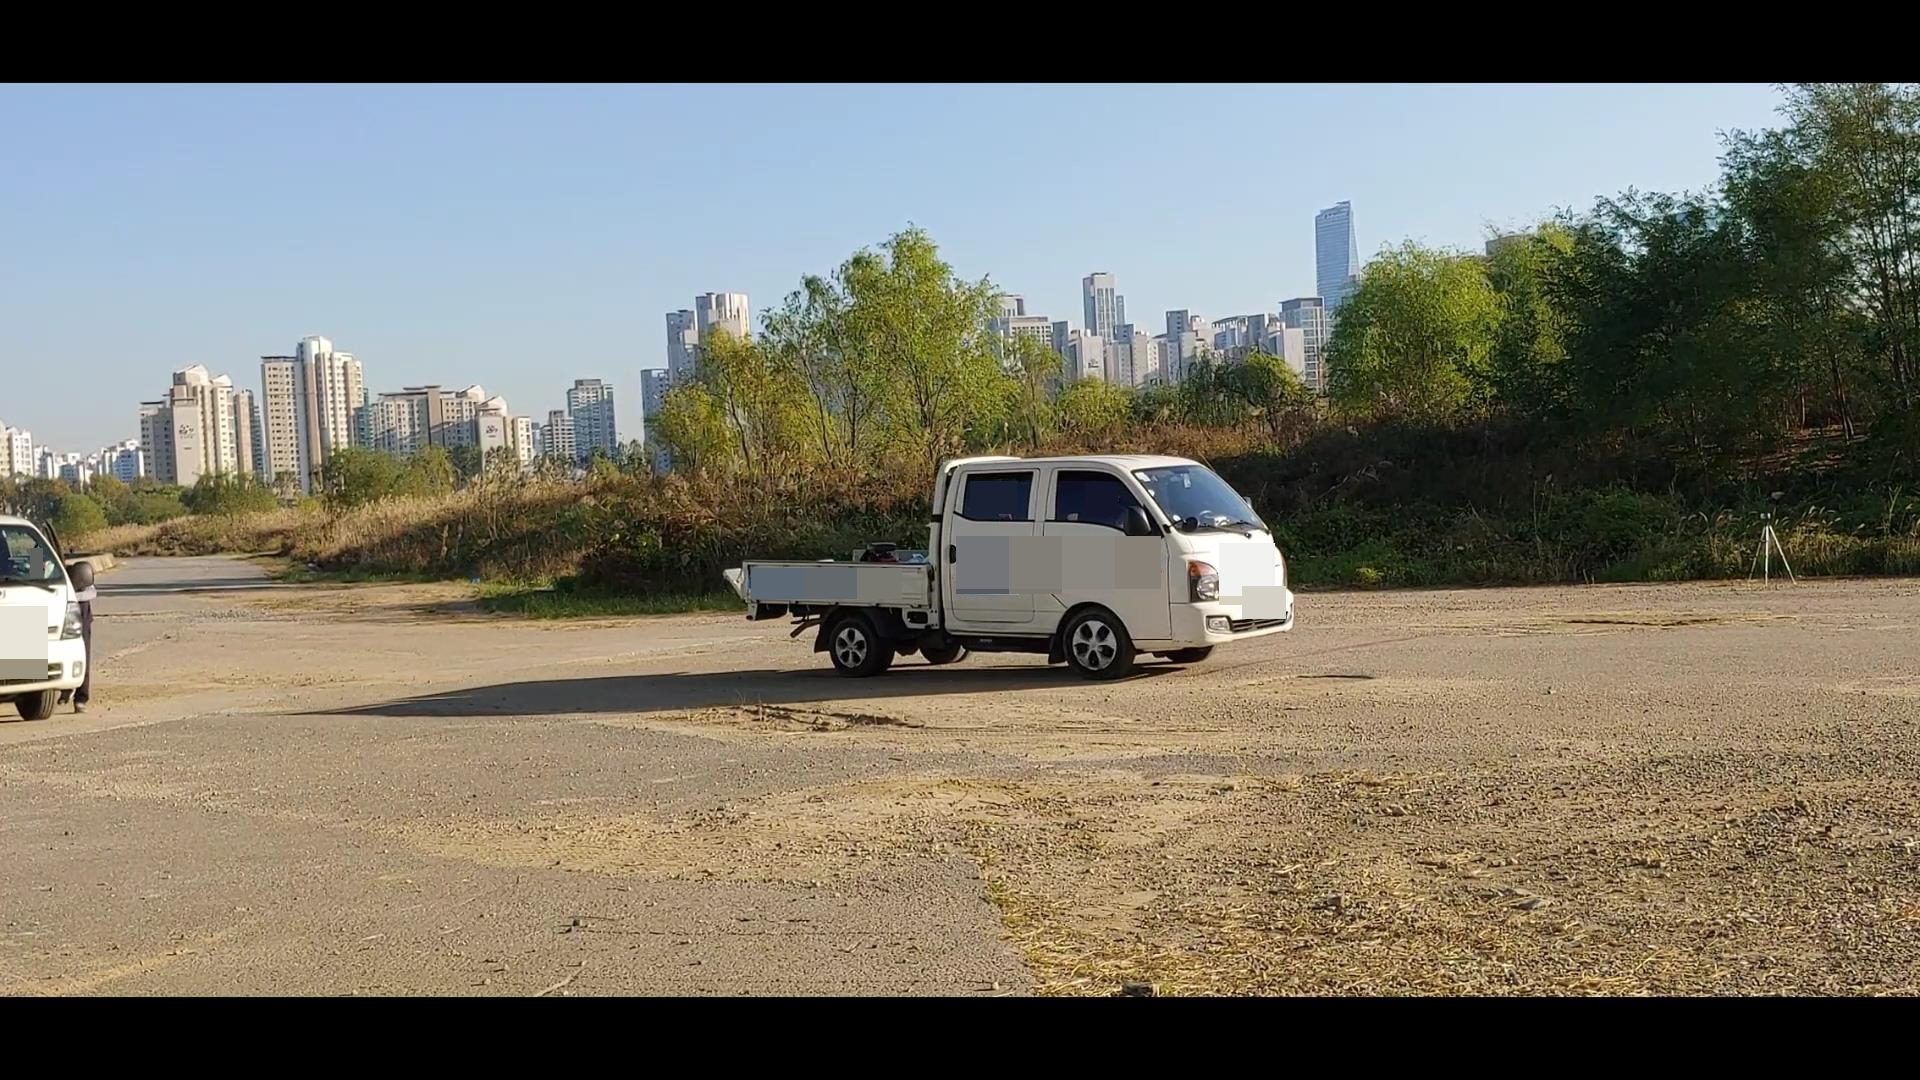불법차량: (723, 454, 1295, 680)
